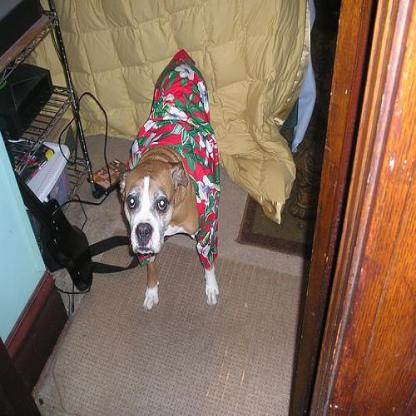boxer: (89, 44, 223, 308)
